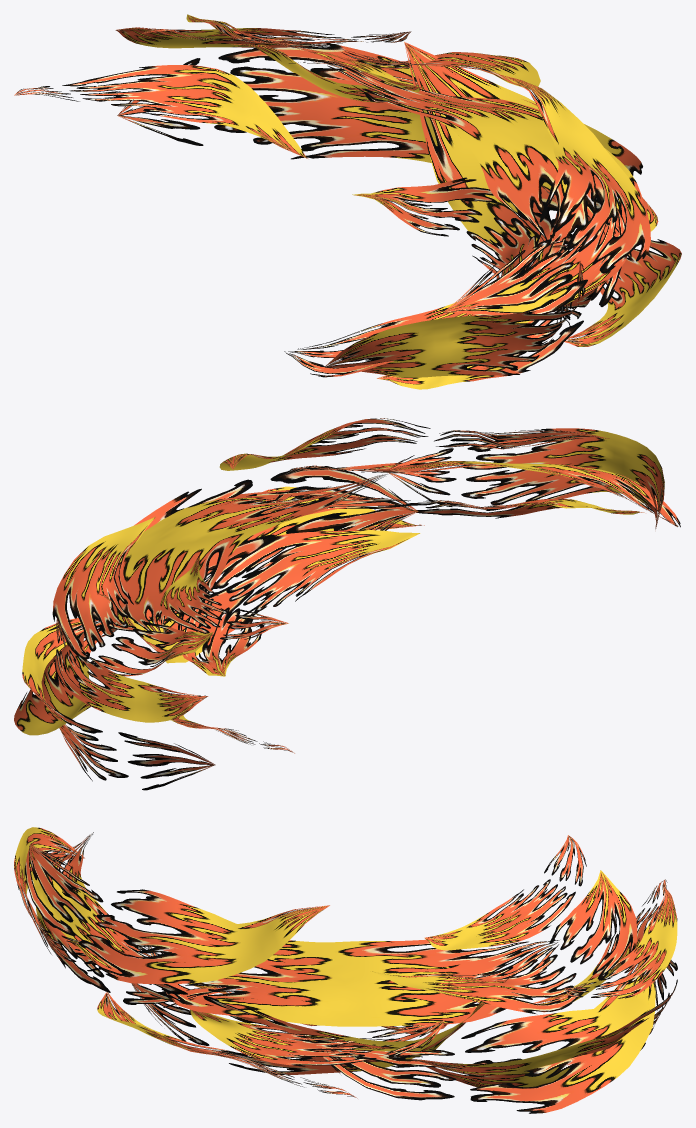
Rendered from Ogi_Atk2.fbx.
The picture shows the model from 3 angles, top to bottom: view 1: azimuth 30°, elevation 25°; view 2: azimuth 150°, elevation 25°; view 3: azimuth 270°, elevation 25°; orthographic projection. The views are drawn at different scales.
Visible parts, largest first — view 1: SM_e_Plc_P0012_SwordFire000; view 2: SM_e_Plc_P0012_SwordFire000; view 3: SM_e_Plc_P0012_SwordFire000.
Part boxes in pixels (box(x1,y1,x2,y2)): SM_e_Plc_P0012_SwordFire000: box(14, 14, 681, 389); SM_e_Plc_P0012_SwordFire000: box(14, 418, 680, 790); SM_e_Plc_P0012_SwordFire000: box(14, 827, 677, 1113).
Size of the model in its own units: 411 by 174 by 601.
